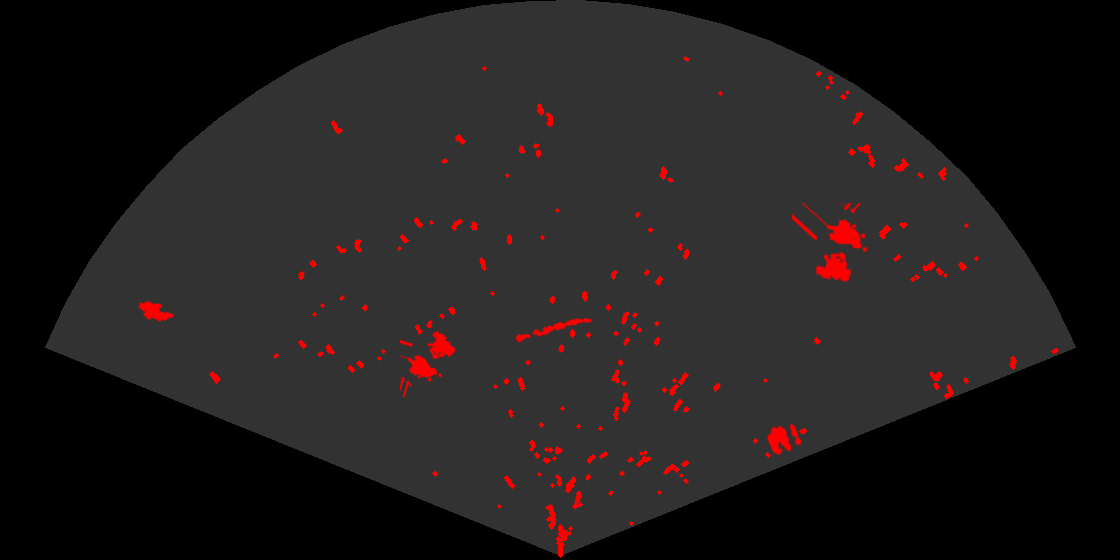AUV: (137, 299, 176, 323)
ball: (765, 422, 803, 457)
cage: (792, 203, 869, 284), (400, 329, 457, 397)
chain: (509, 316, 593, 344)
